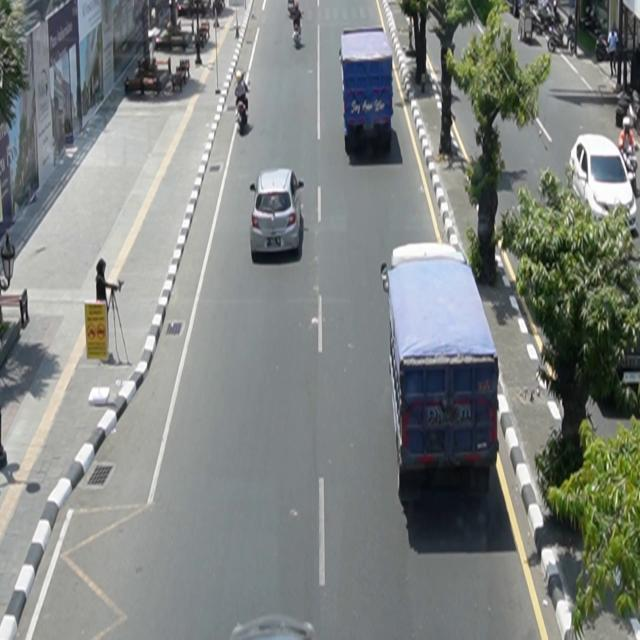car: (568, 133, 639, 239), (250, 168, 305, 258)
truck: (381, 242, 500, 502)
